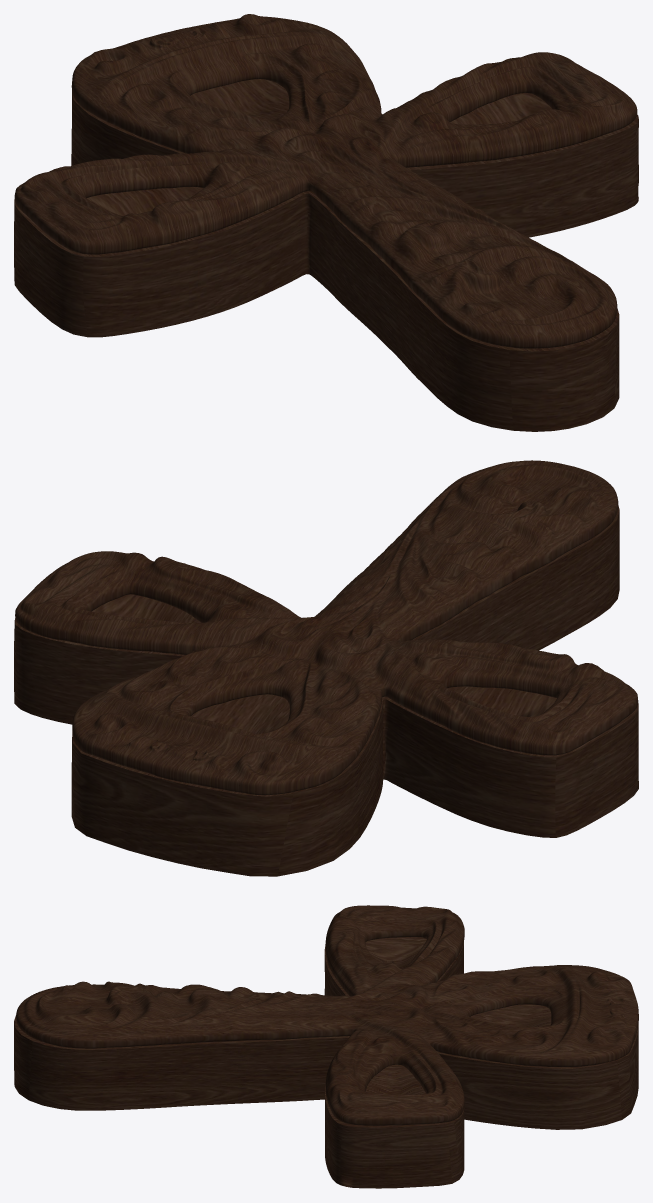
The model's file is incense_holder.glb.
The picture shows the model from 3 angles, top to bottom: view 1: azimuth 30°, elevation 25°; view 2: azimuth 150°, elevation 25°; view 3: azimuth 270°, elevation 25°; orthographic projection. The views are drawn at different scales.
Visible parts, largest first — view 1: incense_holder_threejs; view 2: incense_holder_threejs; view 3: incense_holder_threejs.
Boxes of the visible parts, x1,y1,x2,y2 form: incense_holder_threejs: [14, 14, 638, 431]; incense_holder_threejs: [14, 460, 638, 876]; incense_holder_threejs: [14, 905, 638, 1188].
Size of the model in its own units: 0.1862 by 0.0348 by 0.2323.
Materials: 1 (1 with a texture image).
